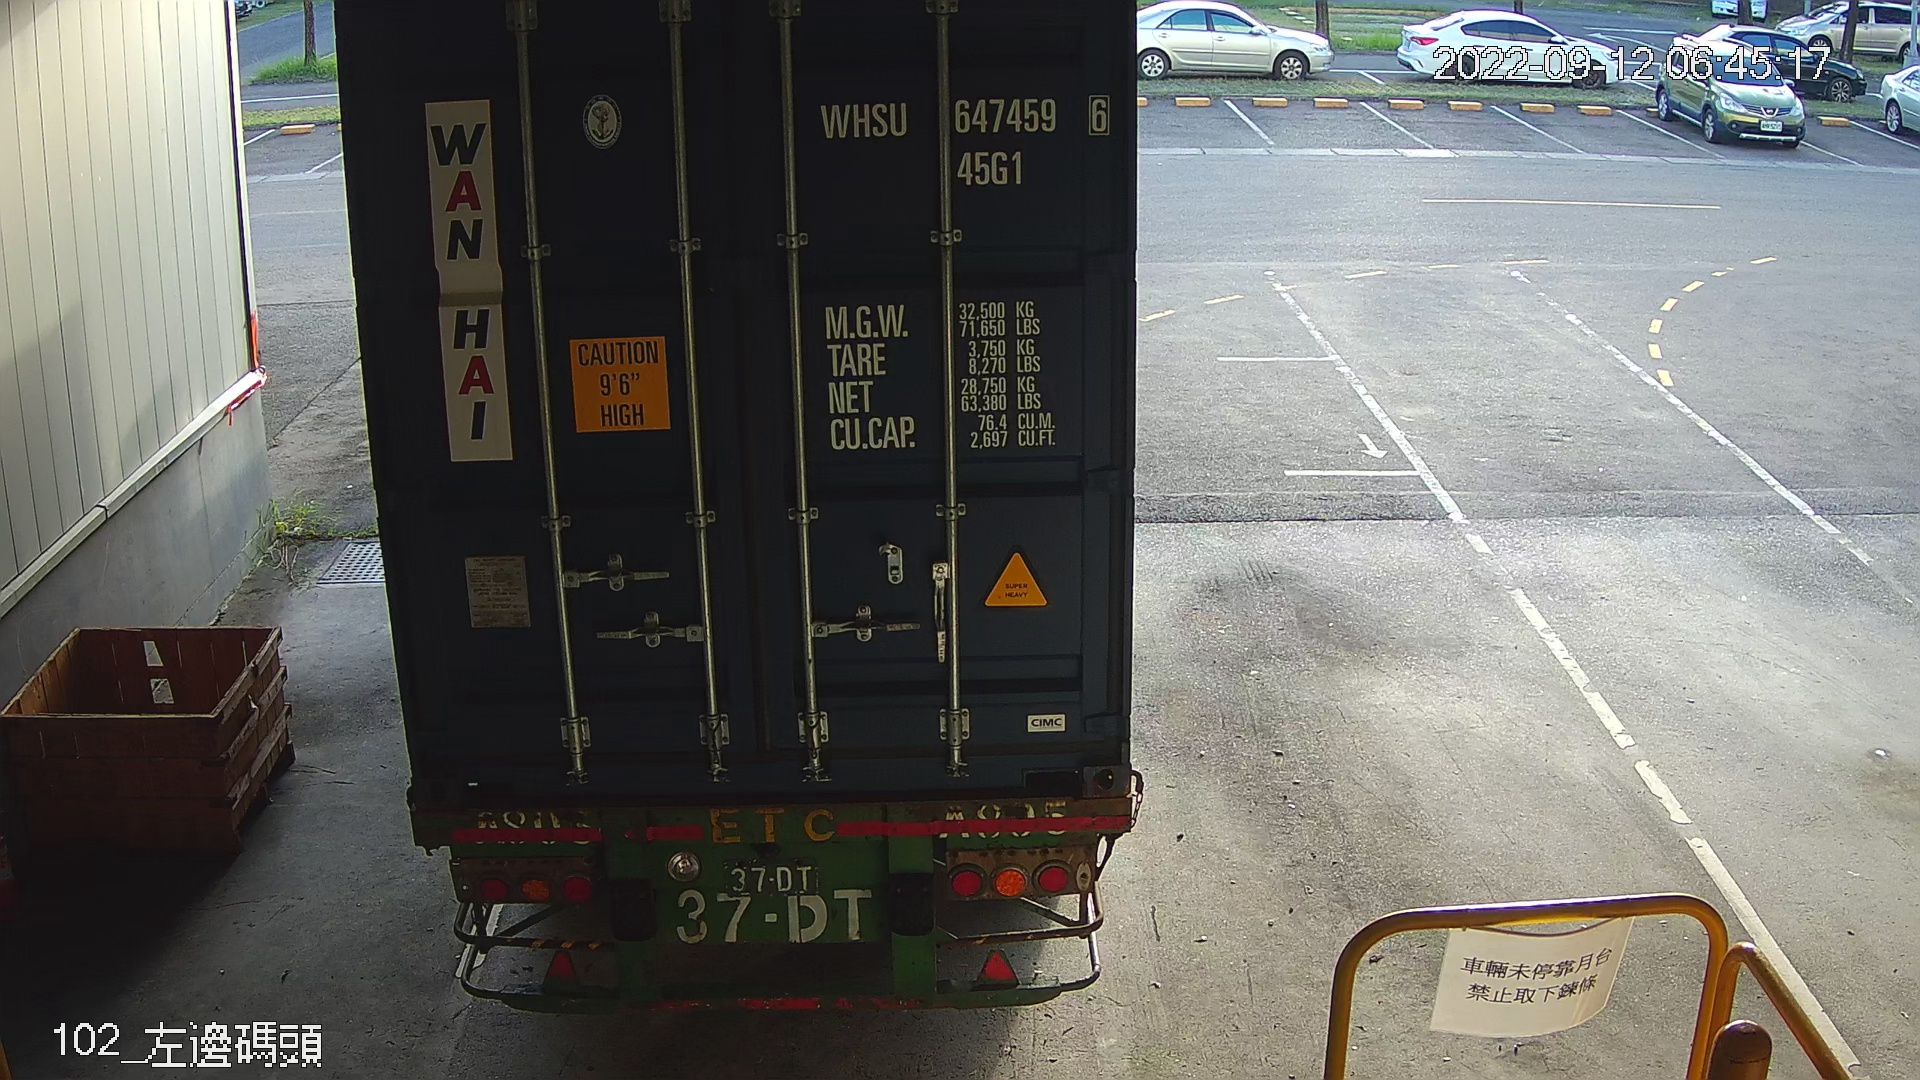container: (807, 79, 1120, 199)
